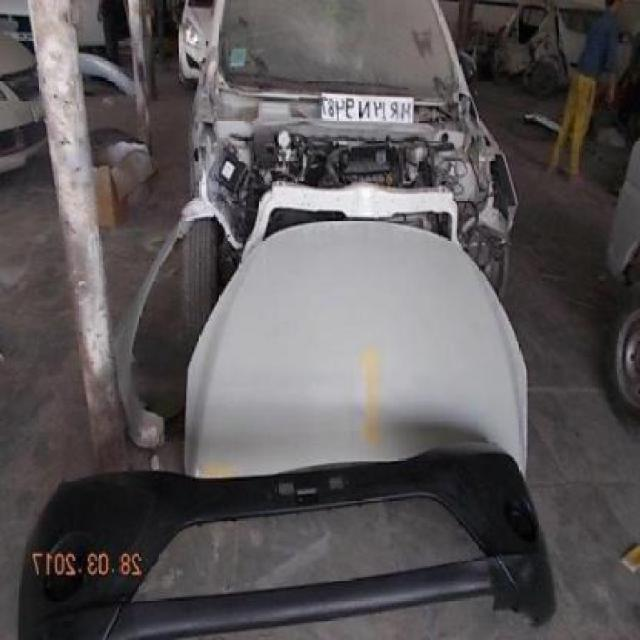damage: (181, 100, 528, 237)
